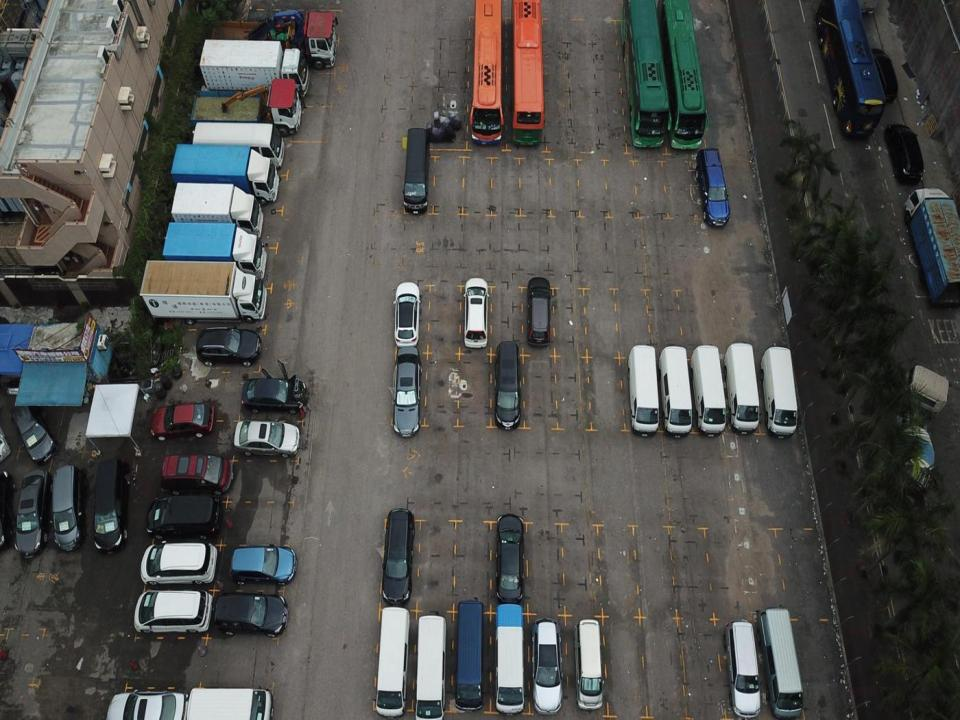bus: (812, 0, 885, 141), (657, 0, 710, 155), (620, 0, 671, 151), (465, 0, 503, 146), (513, 0, 546, 149), (190, 119, 285, 165)
car: (720, 620, 766, 719), (130, 585, 210, 640), (215, 586, 290, 638), (137, 539, 218, 586), (240, 360, 309, 415), (8, 386, 56, 463), (92, 455, 128, 554), (46, 461, 84, 554), (144, 492, 222, 536), (381, 507, 416, 603), (156, 448, 236, 490), (531, 615, 565, 713), (232, 415, 300, 464), (193, 324, 261, 370), (492, 508, 526, 599), (14, 469, 46, 559), (229, 543, 298, 583), (149, 402, 218, 442), (883, 120, 927, 182), (492, 342, 522, 431), (102, 690, 189, 719), (702, 146, 732, 230), (394, 344, 421, 437), (461, 275, 489, 346), (526, 278, 554, 348), (393, 280, 420, 346), (866, 48, 899, 100)
truck: (139, 257, 268, 324), (208, 8, 338, 70), (168, 140, 280, 206), (197, 36, 310, 97), (189, 77, 303, 136), (161, 219, 269, 279), (171, 178, 266, 238)
van: (902, 188, 960, 307), (759, 602, 802, 719), (371, 603, 411, 714), (492, 598, 528, 714), (722, 342, 763, 435), (656, 342, 695, 439), (413, 610, 448, 717), (760, 344, 798, 441), (455, 596, 487, 710), (690, 342, 727, 438), (626, 342, 661, 433), (185, 683, 272, 719), (573, 616, 606, 710), (401, 125, 431, 215)
